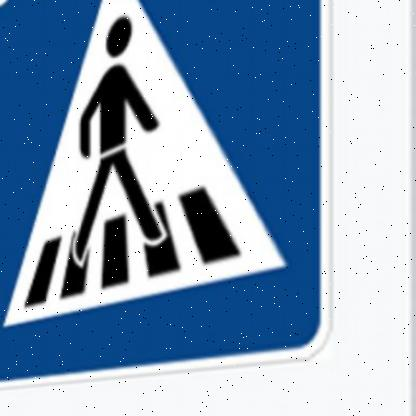Pedestrian Crossing: (1, 1, 334, 393)
